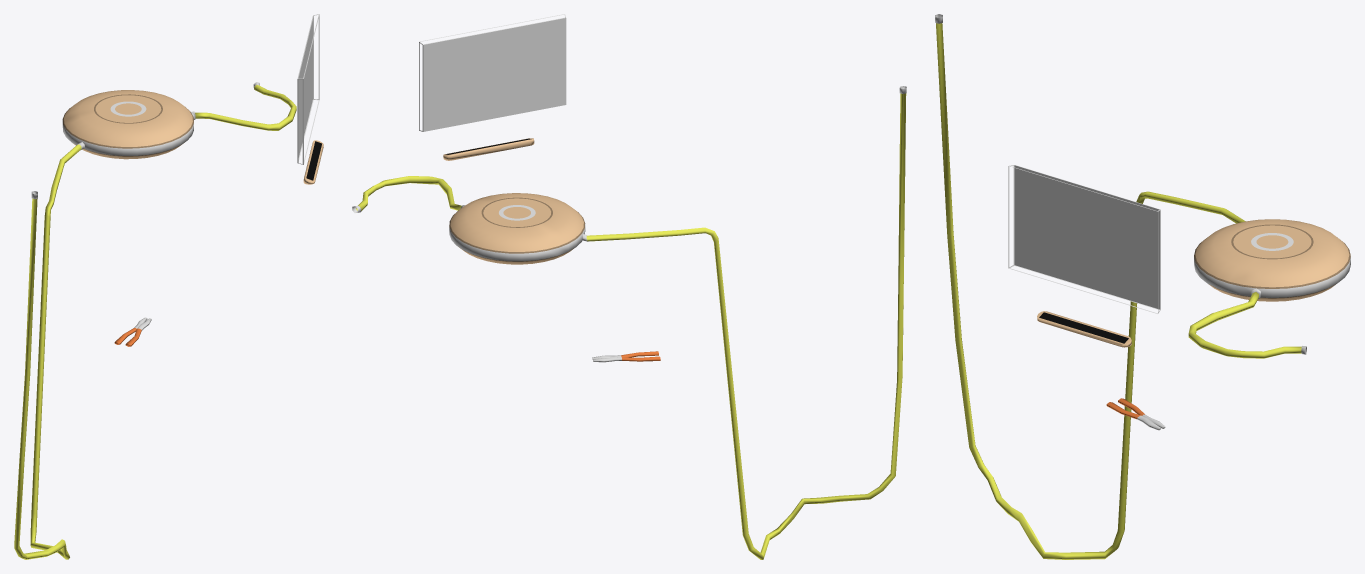
File: Workstation3Clutter.fbx
3 views of the same model, side by side, from view 1: azimuth 30°, elevation 25°; view 2: azimuth 150°, elevation 25°; view 3: azimuth 270°, elevation 25° (orthographic). The views are drawn at different scales.
Parts seen in each view (by area): view 1: Cylinder.009; view 2: Cylinder.009; view 3: Cylinder.009.
Part boxes in pixels (x1,y1,x2,y2): Cylinder.009: (14, 14, 323, 559); Cylinder.009: (352, 14, 906, 559); Cylinder.009: (935, 14, 1350, 559).
Size of the model in its own units: 103 by 111 by 79.3.
